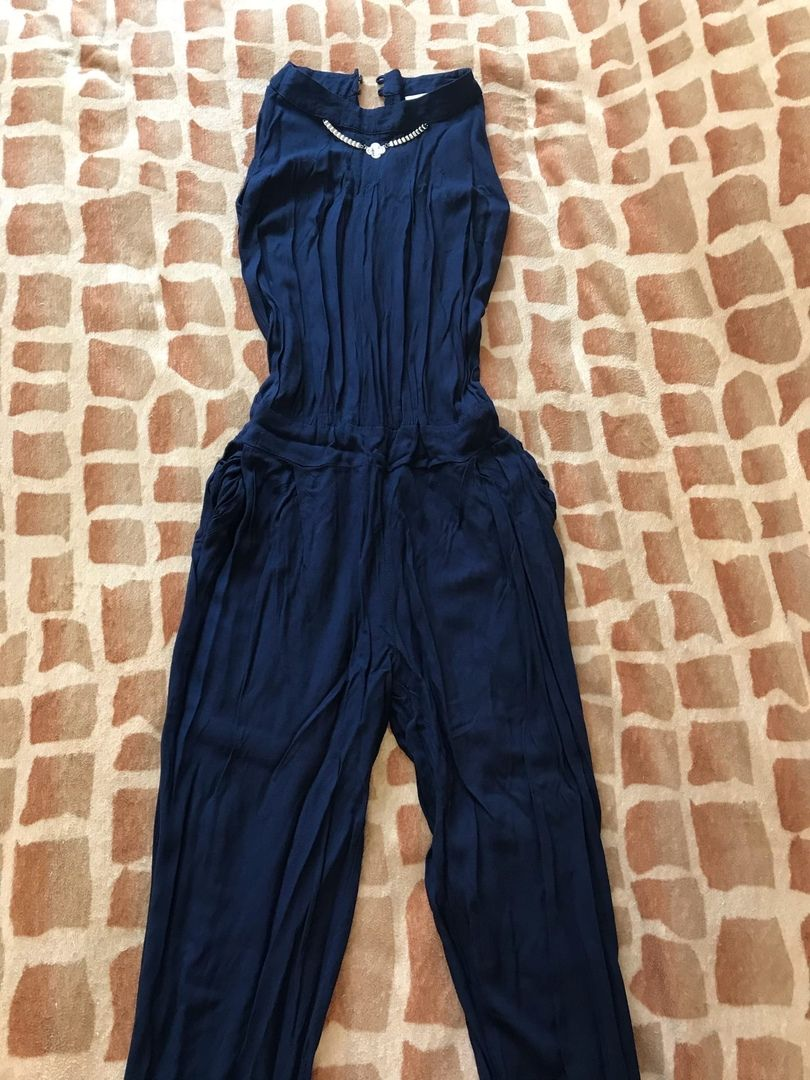clothes: (106, 50, 648, 1080)
